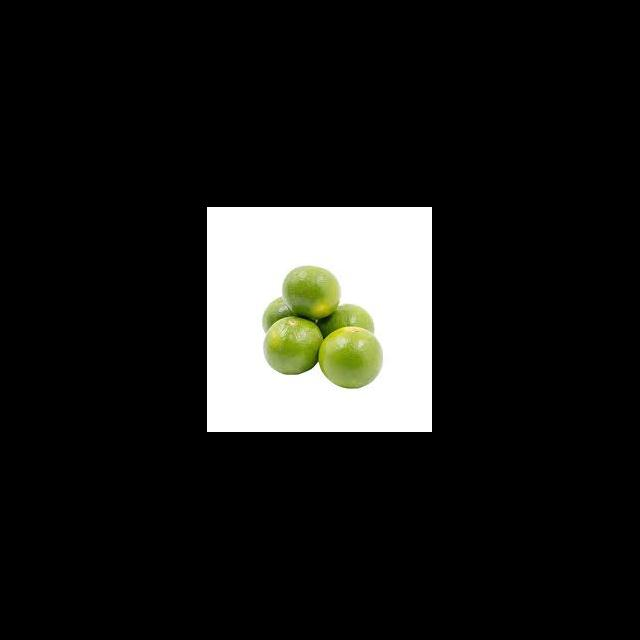lime: (317, 324, 385, 392), (261, 314, 326, 377), (280, 262, 344, 321), (314, 303, 378, 347), (258, 295, 300, 337)
